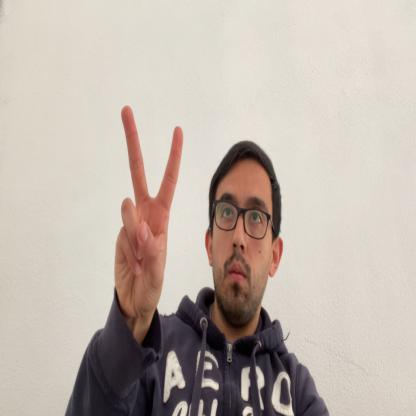V: (115, 105, 184, 312)
